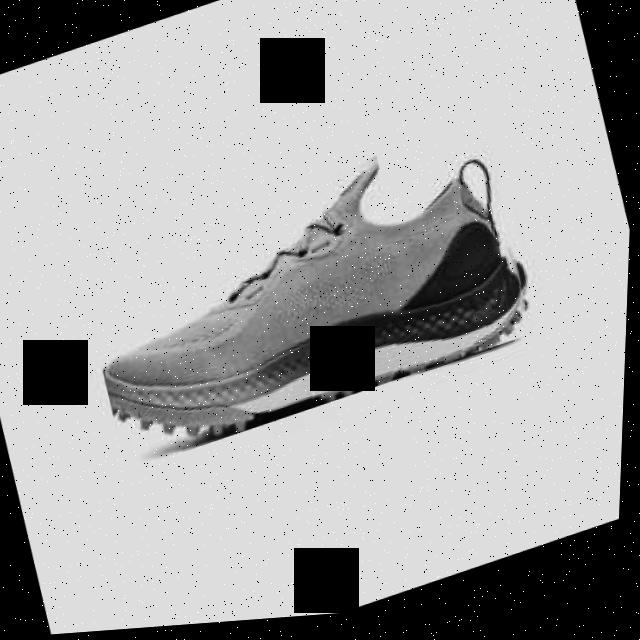shoe: (70, 117, 549, 476)
